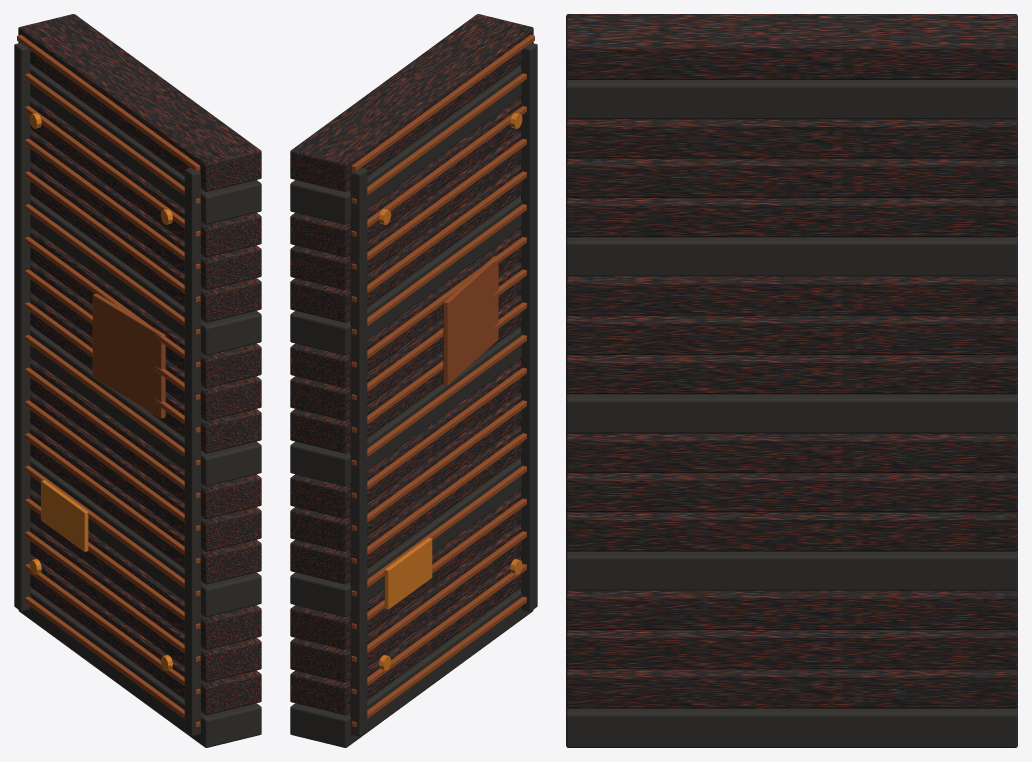
Rendered from salvaged_rolling_shutter.glb.
3 views of the same model, side by side, from view 1: azimuth 30°, elevation 25°; view 2: azimuth 150°, elevation 25°; view 3: azimuth 270°, elevation 25° (orthographic). The views are drawn at different scales.
Visible parts, largest first — view 1: Corrugated shutter slat.017, Shutter side strap, Shutter side strap.001, Shutter patch plate, Corrugated shutter slat, Corrugated shutter slat.012, Corrugated shutter slat.005, Corrugated shutter slat.006, Corrugated shutter slat.016, Corrugated shutter slat.013, Corrugated shutter slat.002, Corrugated shutter slat.007 (+28 smaller); view 2: Corrugated shutter slat.017, Shutter side strap.001, Shutter side strap, Corrugated shutter slat, Corrugated shutter slat.012, Corrugated shutter slat.005, Corrugated shutter slat.006, Corrugated shutter slat.016, Corrugated shutter slat.013, Corrugated shutter slat.002, Corrugated shutter slat.007, Corrugated shutter slat.014 (+28 smaller); view 3: Corrugated shutter slat.017, Corrugated shutter slat.003, Corrugated shutter slat.005, Corrugated shutter slat.006, Corrugated shutter slat.008, Corrugated shutter slat.009, Corrugated shutter slat.012, Corrugated shutter slat.013, Corrugated shutter slat.015, Corrugated shutter slat.016, Corrugated shutter slat, Corrugated shutter slat.001 (+6 smaller).
Boxes of the visible parts, left/top/right/bottom form: Corrugated shutter slat.017: left=18, top=14, right=261, bottom=191; Shutter side strap: left=184, top=168, right=201, bottom=736; Shutter side strap.001: left=14, top=43, right=30, bottom=611; Shutter patch plate: left=92, top=293, right=165, bottom=418; Corrugated shutter slat: left=18, top=588, right=261, bottom=747; Corrugated shutter slat.012: left=30, top=195, right=261, bottom=355; Corrugated shutter slat.005: left=30, top=424, right=261, bottom=584; Corrugated shutter slat.006: left=30, top=391, right=261, bottom=551; Corrugated shutter slat.016: left=30, top=64, right=261, bottom=224; Corrugated shutter slat.013: left=30, top=162, right=261, bottom=322; Corrugated shutter slat.002: left=30, top=522, right=261, bottom=682; Corrugated shutter slat.007: left=30, top=359, right=261, bottom=518; Corrugated shutter slat.017: left=290, top=14, right=533, bottom=191; Shutter side strap.001: left=350, top=168, right=367, bottom=736; Shutter side strap: left=521, top=43, right=537, bottom=611; Corrugated shutter slat: left=290, top=588, right=533, bottom=747; Corrugated shutter slat.012: left=290, top=195, right=521, bottom=355; Corrugated shutter slat.005: left=290, top=424, right=521, bottom=584; Corrugated shutter slat.006: left=290, top=391, right=521, bottom=551; Corrugated shutter slat.016: left=290, top=64, right=521, bottom=224; Corrugated shutter slat.013: left=290, top=162, right=521, bottom=322; Corrugated shutter slat.002: left=290, top=522, right=521, bottom=682; Corrugated shutter slat.007: left=290, top=359, right=521, bottom=518; Corrugated shutter slat.014: left=290, top=130, right=521, bottom=289; Corrugated shutter slat.017: left=566, top=14, right=1017, bottom=79; Corrugated shutter slat.003: left=566, top=589, right=1017, bottom=629; Corrugated shutter slat.005: left=566, top=510, right=1017, bottom=551; Corrugated shutter slat.006: left=566, top=471, right=1017, bottom=512; Corrugated shutter slat.008: left=566, top=392, right=1017, bottom=433; Corrugated shutter slat.009: left=566, top=353, right=1017, bottom=394; Corrugated shutter slat.012: left=566, top=235, right=1017, bottom=276; Corrugated shutter slat.013: left=566, top=196, right=1017, bottom=237; Corrugated shutter slat.015: left=566, top=117, right=1017, bottom=158; Corrugated shutter slat.016: left=566, top=78, right=1017, bottom=119; Corrugated shutter slat: left=566, top=707, right=1017, bottom=747; Corrugated shutter slat.001: left=566, top=668, right=1017, bottom=708.
Size of the model in its own units: 0.3711 by 2.95 by 1.72.
Materials: 4 (1 with a texture image).
